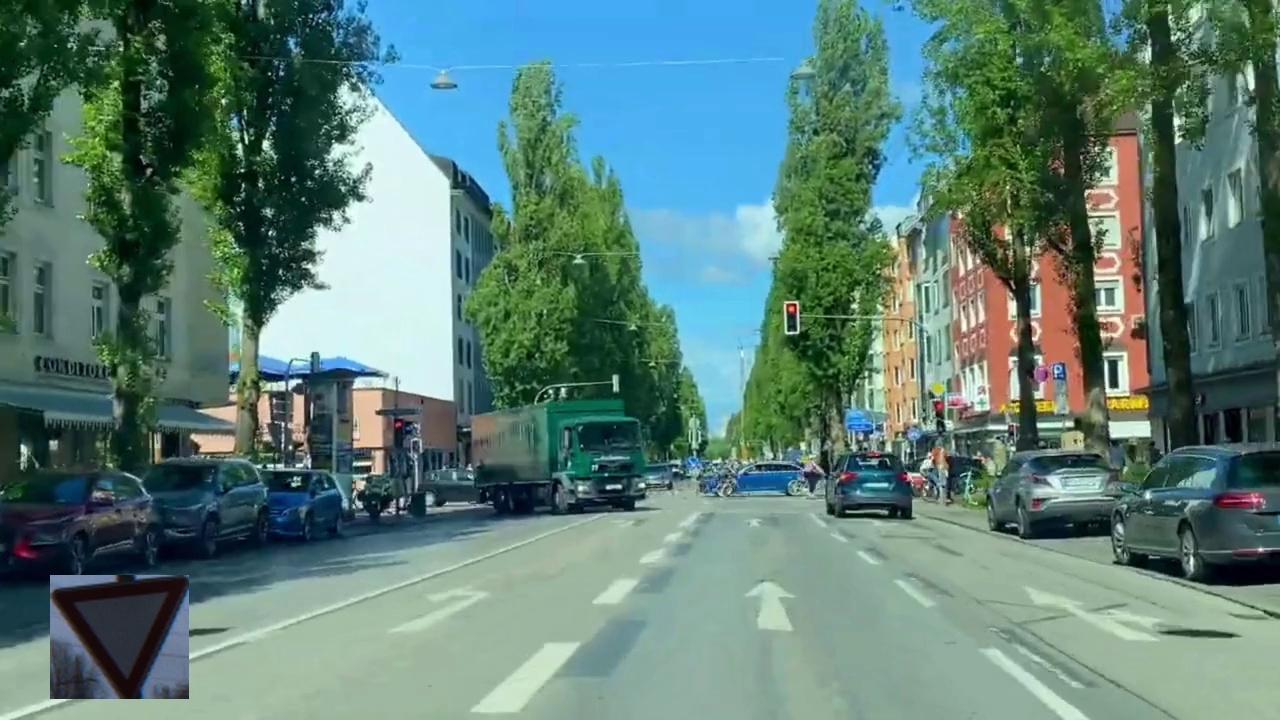Yield: (50, 575, 189, 699)
